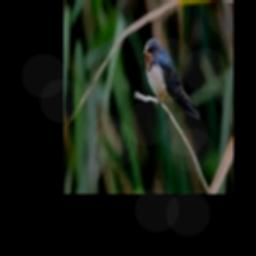Swallow: (144, 38, 201, 119)
